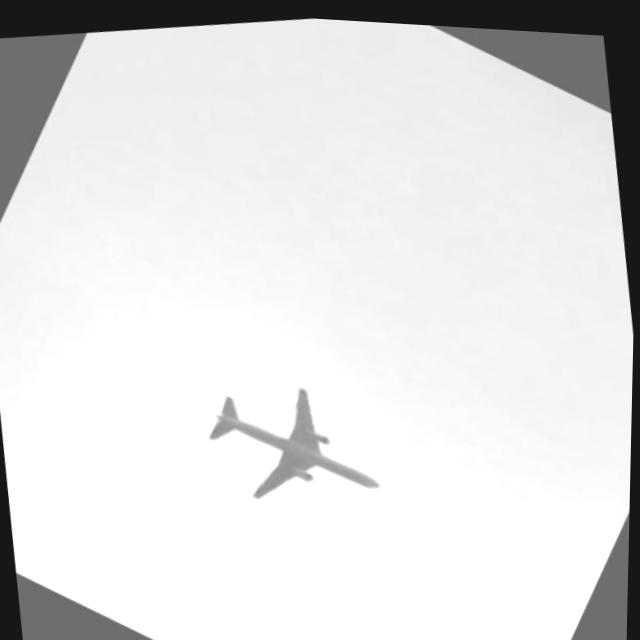aeroplane: (182, 334, 422, 564)
